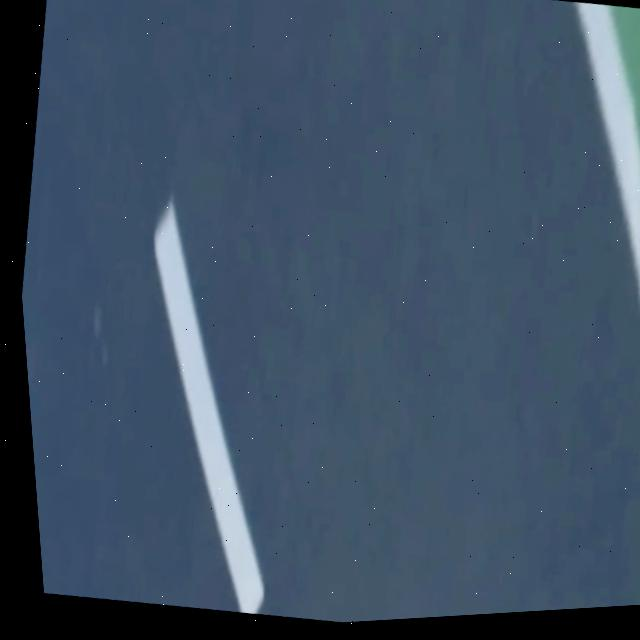center: (155, 201, 263, 614)
right: (575, 2, 640, 302)
